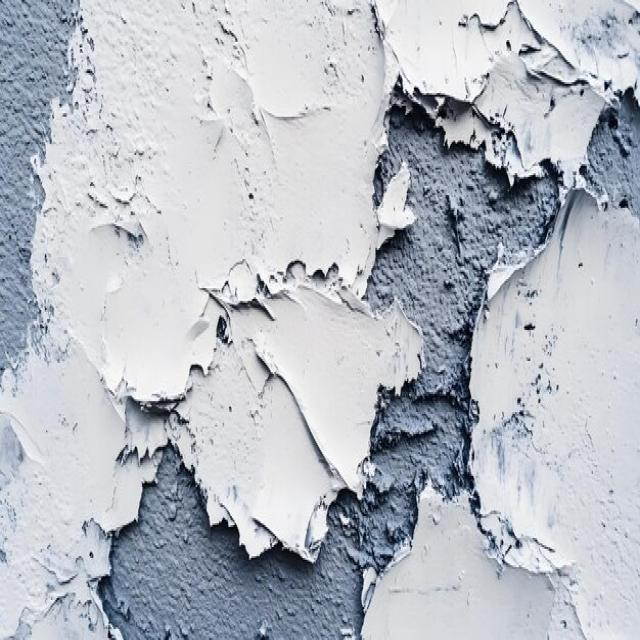Paint peeling: (92, 11, 631, 634)
